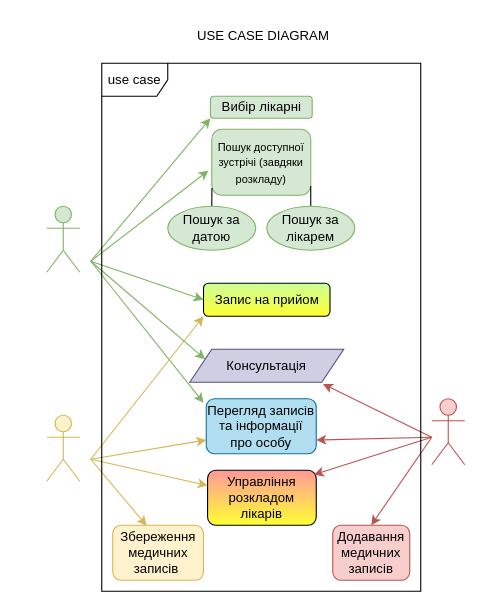
This 484x611 diagram has some shape labels left out. The shapes that lost their labels are listed below. From the top down, each one's centre as x and y in pixels, then its label:
At pixel 63 238: "Пацієнт".
At pixel 63 447: "Мед персонал".
At pixel 448 431: "Лікар".
